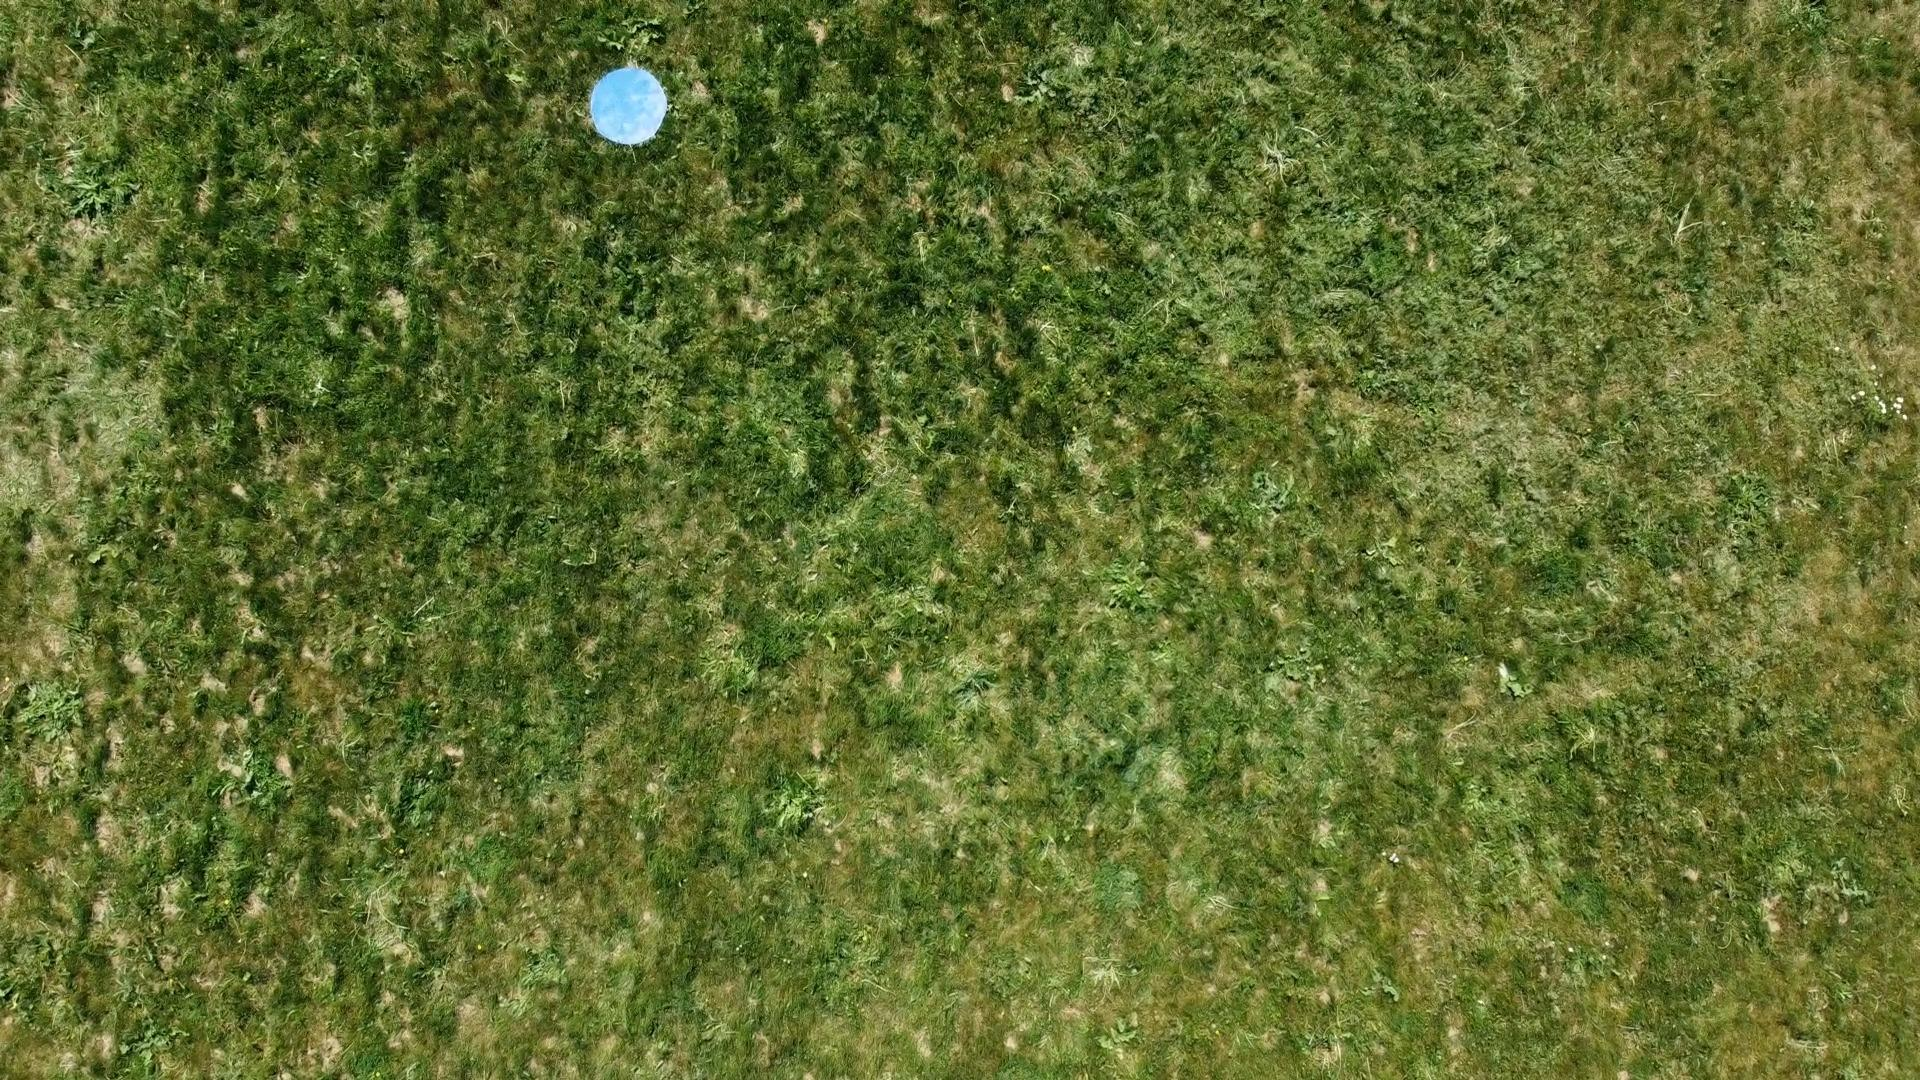Blue: (583, 63, 673, 152)
